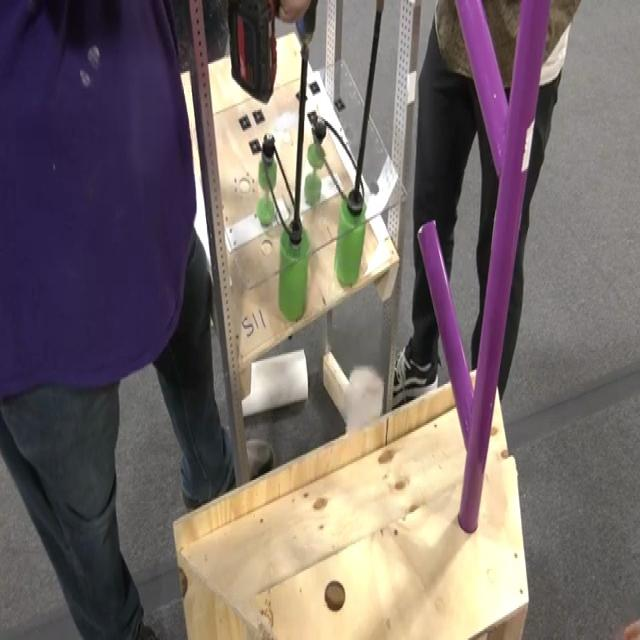Coral: (239, 347, 309, 418)
